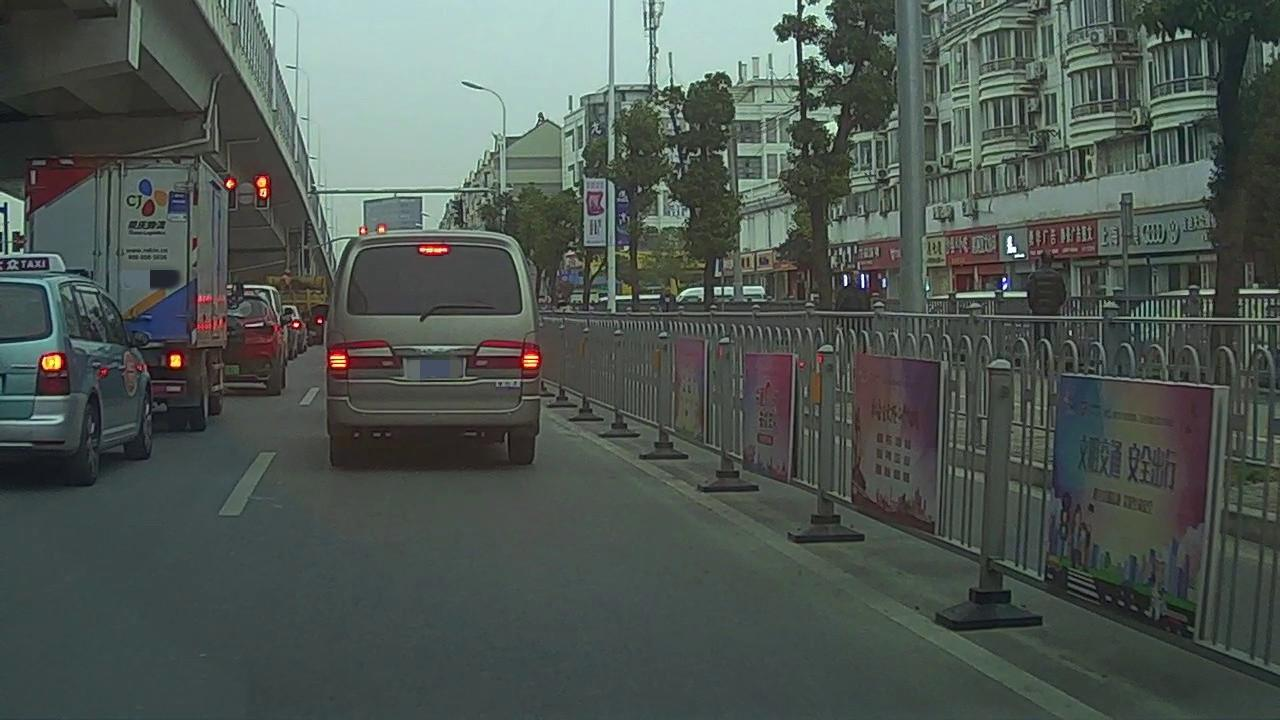traffic_light: (256, 176, 268, 207), (225, 179, 235, 209)
